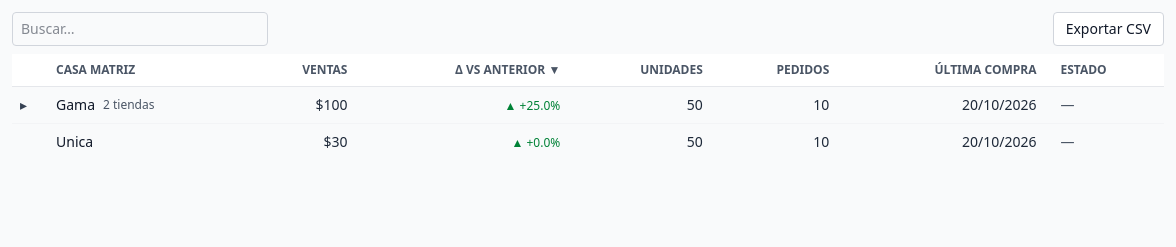
Test case: TrajectoryTable › chain row expands to its stores
Expected: the text "Gama Centro" is not shown
What coordinates should you click on to do the following:
click the button named "Expandir"
I would click on:
 (24, 105)
Its box is x1=16 y1=95 x2=31 y2=115.
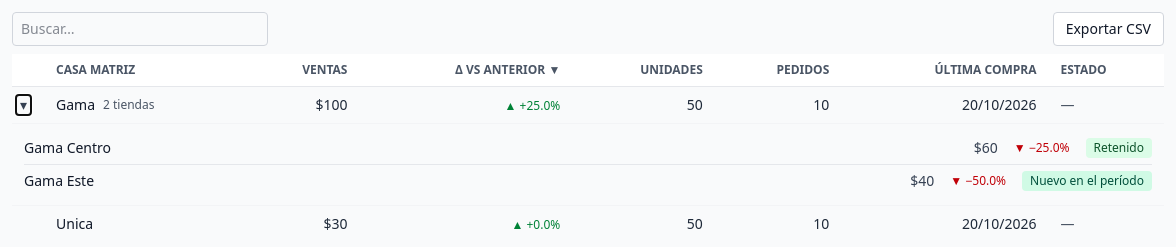
Now the text "Gama Centro" is shown, box x1=24 y1=138 x2=111 y2=158
Now the text "Gama Este" is shown, box x1=24 y1=171 x2=94 y2=191
